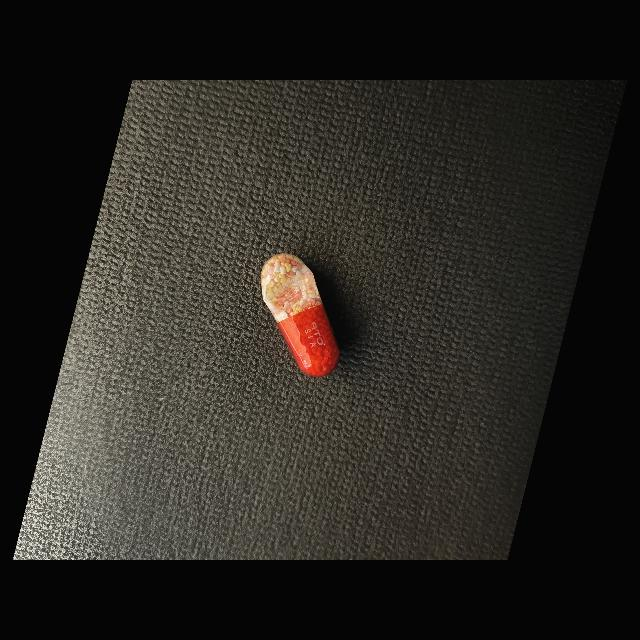Defective Capsule: (261, 254, 340, 377)
